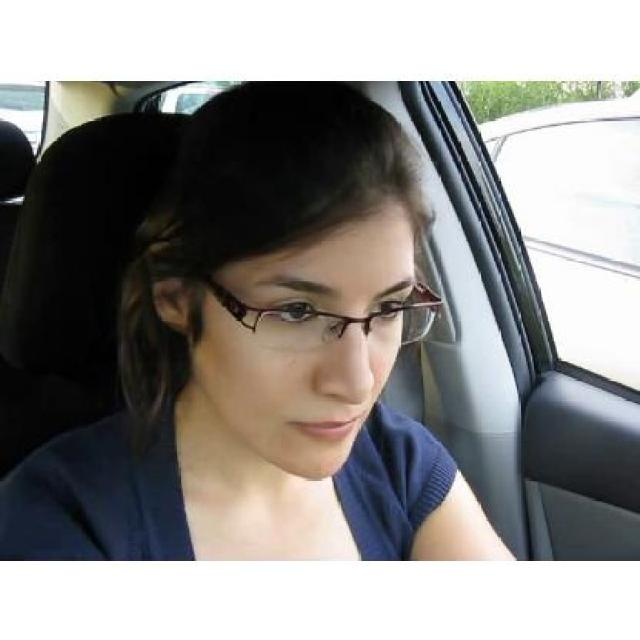attentif: (153, 81, 447, 479)
